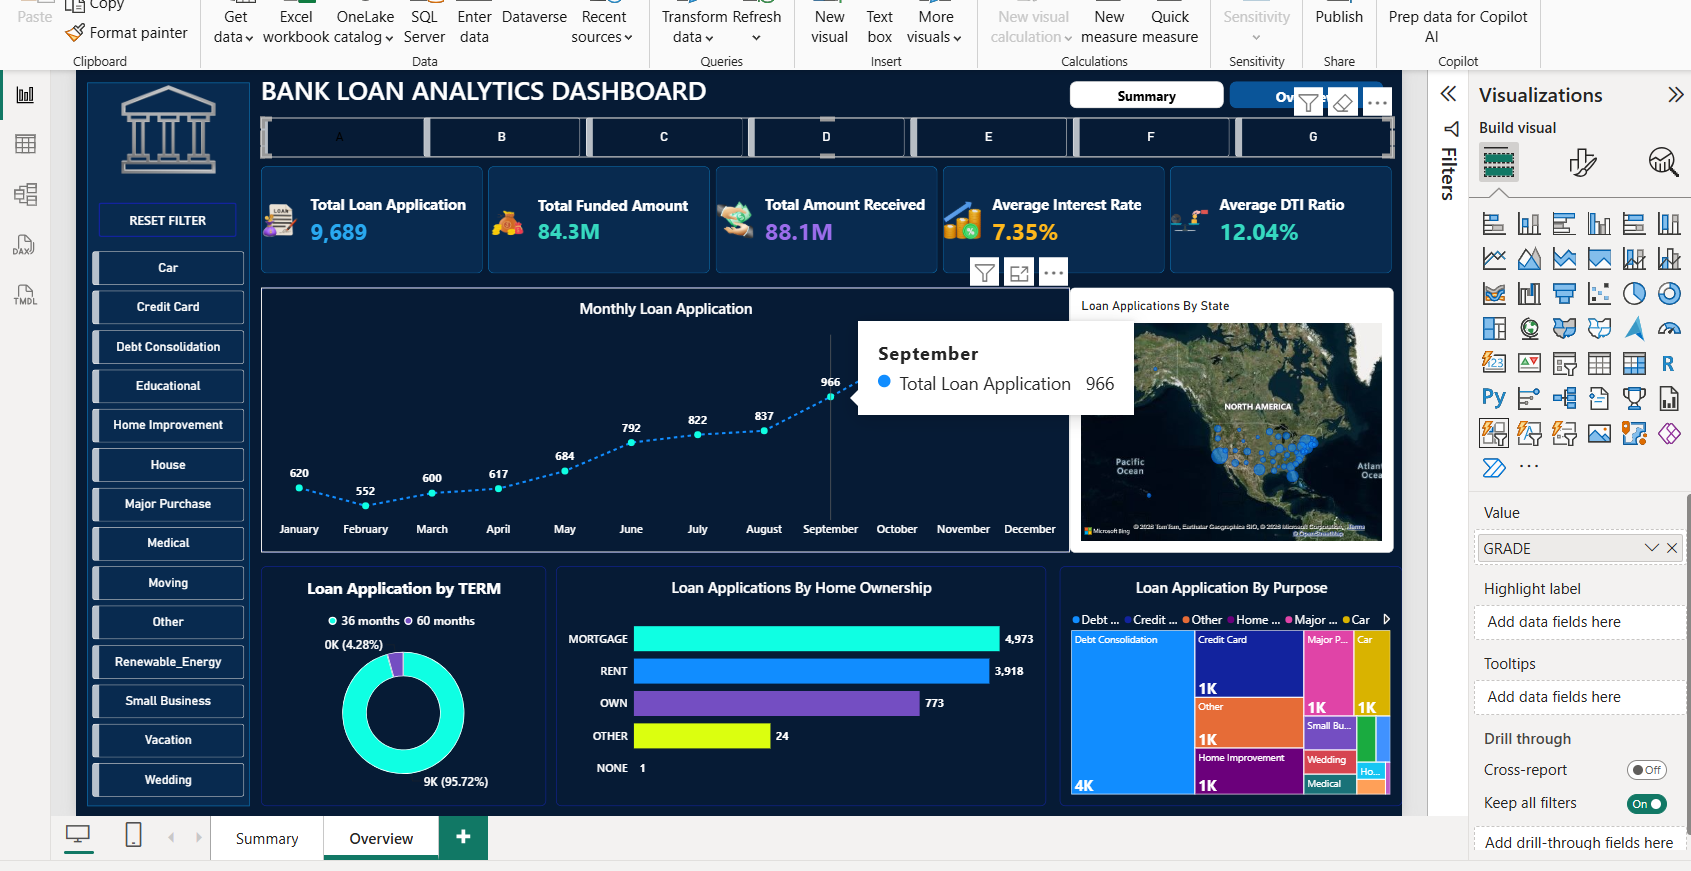

What the dashboard file says about the page in this screenshot:
{"tool":"powerbi","page":{"name":"Overview ","canvas":[1920,1080],"ordinal":1},"visuals":[{"type":"textbox","box":[267.8,3.6,776.3,52.5],"z":0},{"type":"shape","box":[16.3,18.1,235.3,1047.8],"z":1000},{"type":"image","box":[23.5,18.1,220.8,135.7],"z":2000},{"type":"cardVisual","fields":{"Data":["financial_loan.Total Loan Application","financial_loan.Total Funded Amount","financial_loan.Total Amount Received","financial_loan.Average Interest Rate","financial_loan.Average DTI Ratio"]},"box":[267.6,140,1639.6,155.6],"z":3000},{"type":"pageNavigator","box":[1438.7,16.3,454.2,39.8],"z":4000},{"type":"advancedSlicerVisual","fields":{"Values":["financial_loan.PURPOSE"]},"box":[23.5,262.4,220.8,790.8],"z":15000},{"type":"advancedSlicerVisual","fields":{"Values":["financial_loan.GRADE"]},"box":[267.8,68.8,1639.6,57.9],"z":16000},{"type":"actionButton","box":[32.6,191.8,200,50],"z":17000},{"type":"lineChart","title":"Monthly Loan Application ","fields":{"Category":["financial_loan.ISSUE_DATE.Variation.Date Hierarchy.Month"],"Y":["financial_loan.Total Loan Application"]},"box":[267.8,314.9,1170.9,383.6],"z":17001},{"type":"donutChart","title":" Loan Application by TERM","fields":{"Category":["financial_loan.TERM"],"Y":["financial_loan.Total Loan Application"]},"box":[267.8,718.4,412.6,347.5],"z":17002},{"type":"clusteredBarChart","title":"Loan Applications By Home Ownership","fields":{"Category":["financial_loan.HOME_OWNERSHIP"],"Y":["financial_loan.Total Loan Application"]},"box":[694.9,718.4,709.4,347.5],"z":17003},{"type":"treemap","title":"Loan Application By Purpose","fields":{"Group":["financial_loan.PURPOSE"],"Values":["financial_loan.Total Loan Application"]},"box":[1424.2,718.4,495.8,347.5],"z":17004},{"type":"map","title":"Loan Applications By State","fields":{"Category":["financial_loan.ADDRESS_STATE"],"Size":["financial_loan.Total Loan Application"]},"box":[1439,315,469,384],"z":17005}]}

Visuals, with their boxes on the page's 1920x1080 design canvas (x1, y1, x2, y2). These are canvas units, not pixel positions in the 1691x871 screenshot, which may show the page scaled, cropped or inside an application window:
textbox: box(268, 4, 1044, 56)
shape: box(16, 18, 252, 1066)
image: box(24, 18, 244, 154)
cardVisual - financial_loan.Total Loan Application x financial_loan.Total Funded Amount: box(268, 140, 1907, 296)
pageNavigator: box(1439, 16, 1893, 56)
advancedSlicerVisual - financial_loan.PURPOSE: box(24, 262, 244, 1053)
advancedSlicerVisual - financial_loan.GRADE: box(268, 69, 1907, 127)
actionButton: box(33, 192, 233, 242)
"Monthly Loan Application " lineChart: box(268, 315, 1439, 698)
" Loan Application by TERM" donutChart: box(268, 718, 680, 1066)
"Loan Applications By Home Ownership" clusteredBarChart: box(695, 718, 1404, 1066)
"Loan Application By Purpose" treemap: box(1424, 718, 1920, 1066)
"Loan Applications By State" map: box(1439, 315, 1908, 699)
